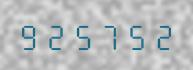five: (70, 20, 95, 50), (122, 20, 147, 50)
nine: (17, 20, 42, 50)
seven: (96, 20, 121, 50)
two: (43, 20, 68, 50), (148, 20, 173, 50)
